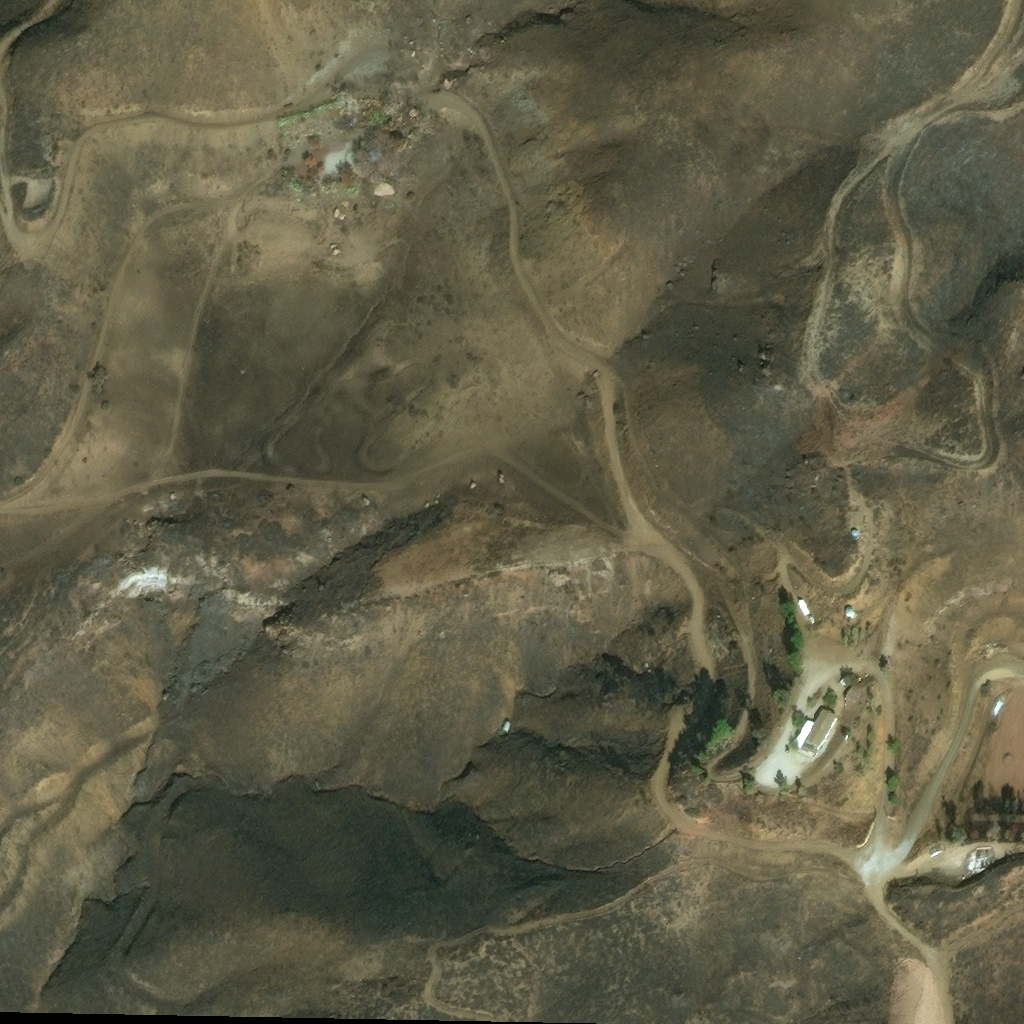0 no-damage: (792, 708, 838, 758), (798, 598, 811, 615), (991, 703, 1005, 718), (845, 609, 855, 622), (810, 616, 817, 624), (851, 534, 858, 540)
1 minor-damage: (930, 849, 942, 858), (504, 717, 511, 729)
3 destroyed: (973, 860, 989, 873), (974, 846, 992, 856)
